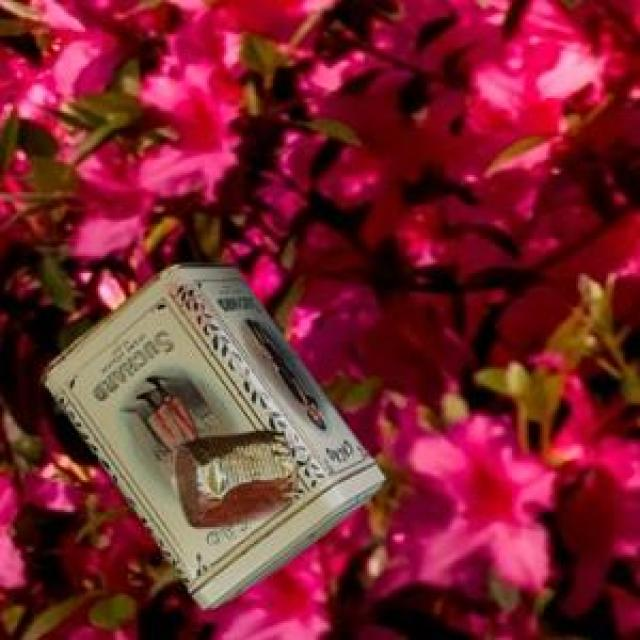logam: (37, 259, 381, 607), (165, 428, 293, 526)
